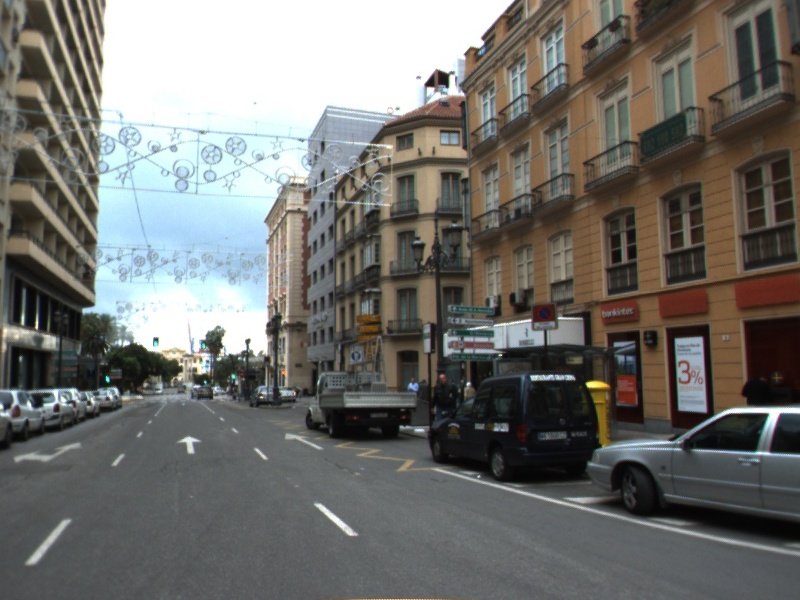STRAIGHT: (283, 430, 327, 453), (174, 433, 205, 456)
STRAIGHT_LEFT: (11, 440, 85, 465)
